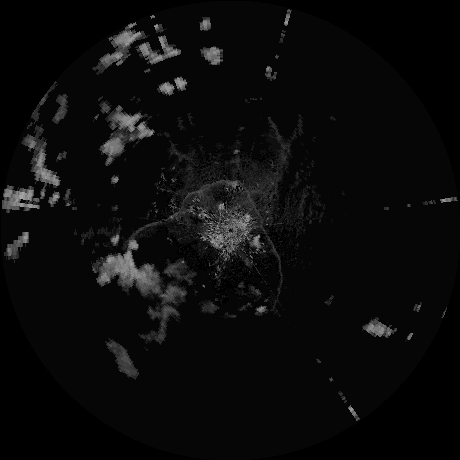frontgust: (128, 181, 239, 236), (241, 186, 284, 312)
